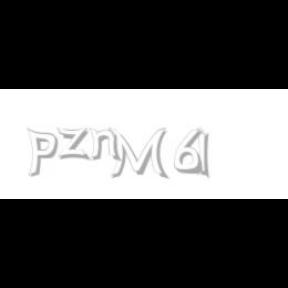6: (174, 128, 202, 176)
I: (198, 128, 210, 180)
M: (107, 128, 166, 180)
P: (26, 128, 58, 178)
n: (88, 128, 122, 162)
z: (56, 128, 92, 160)
